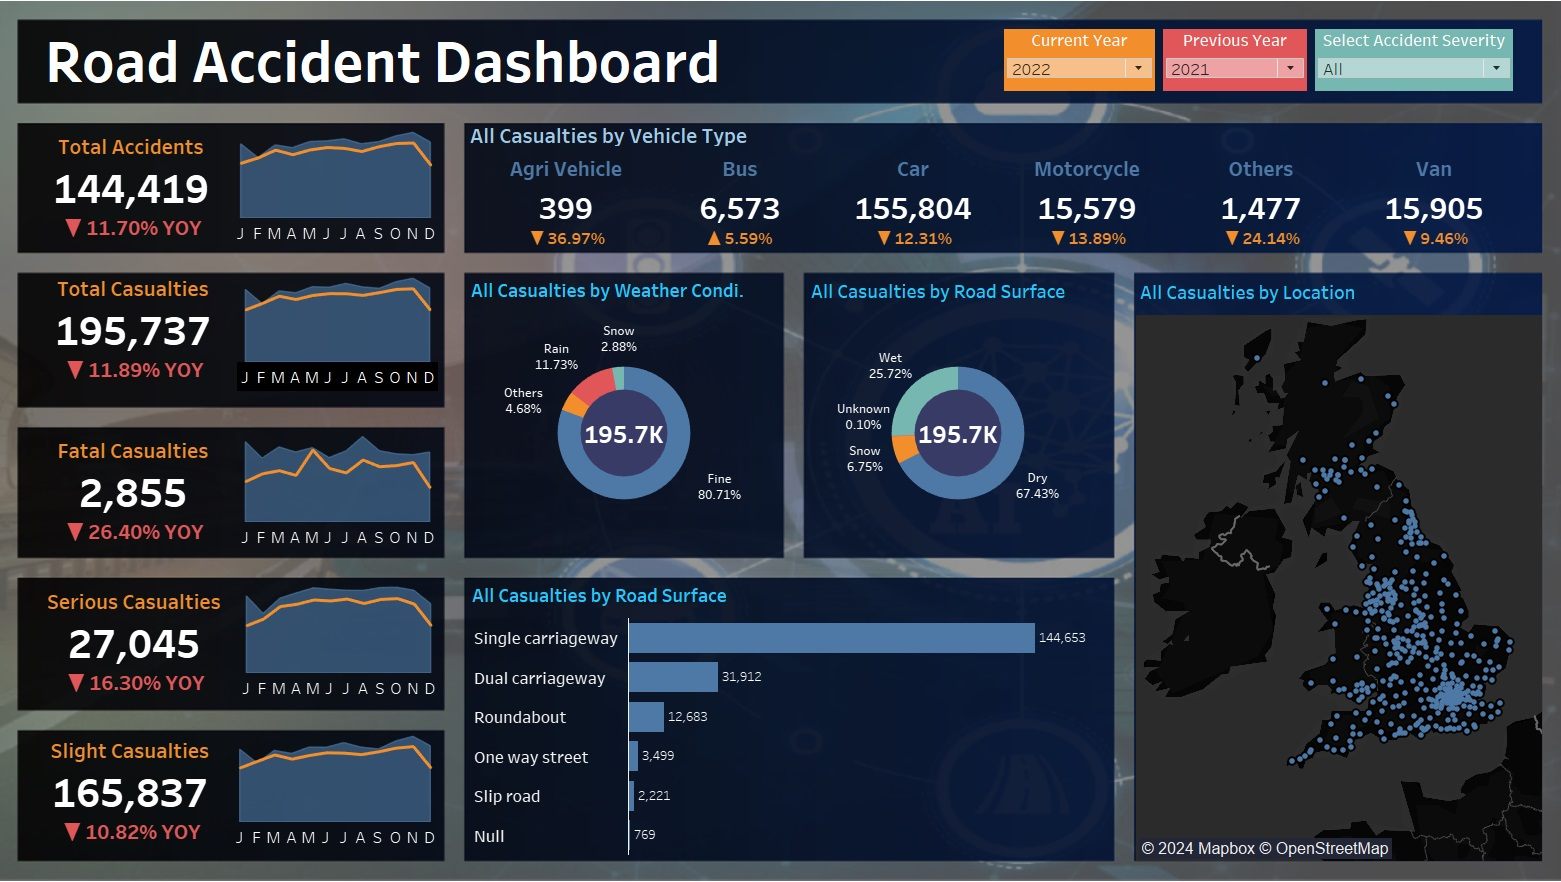

This screenshot's page, from the dashboard's own definition file:
{"tool":"tableau","page":{"name":"Dashboard","canvas":[1600,900],"ordinal":0},"visuals":[{"type":"image","param":"C:/Users/Admin/Desktop/PROJECTS/TABLEAU/Road Accident Analysis/Background.pptx.p","box":[8,8,1584,884]},{"type":"text","box":[60,31,955,79]},{"type":"parameter","param":"[Parameters].[Parameter 1]","box":[1019,36,159,70]},{"type":"parameter","param":"[Parameters].[Current Year (copy)_285978622669066241]","box":[1178,36,152,70]},{"type":"parameter","param":"[Parameters].[Parameter 2]","box":[1330,36,206,70]},{"type":"worksheet","title":"Total Accidents","mark":"Automatic","box":[52,135,195,125]},{"type":"worksheet","title":"Accident Sparkline","mark":"Automatic","rows":["CY Accidents (copy)_285978622670319619","Calculation_285978622669635586"],"cols":["Accident Date"],"box":[247,135,214.8,125]},{"type":"text","box":[485,136,517,21]},{"type":"worksheet","title":"Vehicle Type Imges","mark":"Automatic","box":[494,150,1050,47]},{"type":"worksheet","title":"Vehicle Type KPI","mark":"Automatic","box":[494,197,1050,63]},{"type":"worksheet","title":"Total Casualties","mark":"Automatic","box":[51,281,201,125]},{"type":"worksheet","title":"Total Casualties Sparkline","mark":"Automatic","rows":["CY Casualties (copy)_285978622673678343","Calculation_285978622673195014"],"cols":["Accident Date"],"box":[252,281,208.9,125]},{"type":"worksheet","title":"Weather Condition","mark":"Pie","rows":["Calculation_285978622716882965","Calculation_285978622716907543"],"box":[486,284,314,280]},{"type":"worksheet","title":"Road Surface","mark":"Pie","rows":["Calculation_285978622716882965","Calculation_285978622716907543"],"box":[826,285,302,278]},{"type":"worksheet","title":"Location","mark":"Automatic","rows":["Latitude"],"cols":["Longitude"],"box":[1155,286,406,586]},{"type":"worksheet","title":"Fatal  Casualties ","mark":"Automatic","box":[52,439,200,125]},{"type":"worksheet","title":"Fatal Sparkline","mark":"Automatic","rows":["CY Fatal Casualties (copy)_285978622675296266","Calculation_285978622674714633"],"cols":["Accident Date"],"box":[252,439,209.9,125]},{"type":"worksheet","title":"Road Type","mark":"Automatic","rows":["Road_Type"],"cols":["Calculation_285978622673195014"],"box":[487,589,642,277]},{"type":"worksheet","title":"Serious Casualties","mark":"Automatic","box":[52,590,201,125]},{"type":"worksheet","title":"Serious Sparkline","mark":"Automatic","rows":["PY Fatal Casualties  (copy)_285978622675881997","CY Fatal Casualties (copy)_285978622675750924"],"cols":["Accident Date"],"box":[253,590,208.9,125]},{"type":"worksheet","title":"Slight Casualties","mark":"Automatic","box":[52,739,194,125]},{"type":"worksheet","title":"Slight Sparkline","mark":"Automatic","rows":["PY Serious Casualties (copy)_285978622676451344","CY Serious Casualties (copy)_285978622676348943"],"cols":["Accident Date"],"box":[246,739,216,125]}]}

Visuals, with their boxes in screenshot pixels (x1, y1, x2, y2), scaled from the page's 1600x900 canvas onto the 1561x882 screenshot:
image: l=8, t=8, r=1553, b=874
text: l=59, t=30, r=990, b=108
parameter: l=994, t=35, r=1149, b=104
parameter: l=1149, t=35, r=1298, b=104
parameter: l=1298, t=35, r=1499, b=104
"Total Accidents" worksheet: l=51, t=132, r=241, b=255
"Accident Sparkline" worksheet: l=241, t=132, r=451, b=255
text: l=473, t=133, r=978, b=154
"Vehicle Type Imges" worksheet: l=482, t=147, r=1506, b=193
"Vehicle Type KPI" worksheet: l=482, t=193, r=1506, b=255
"Total Casualties" worksheet: l=50, t=275, r=246, b=398
"Total Casualties Sparkline" worksheet: l=246, t=275, r=450, b=398
"Weather Condition" worksheet (Pie marks): l=474, t=278, r=780, b=553
"Road Surface" worksheet (Pie marks): l=806, t=279, r=1101, b=552
"Location" worksheet: l=1127, t=280, r=1523, b=855
"Fatal  Casualties " worksheet: l=51, t=430, r=246, b=553
"Fatal Sparkline" worksheet: l=246, t=430, r=451, b=553
"Road Type" worksheet: l=475, t=577, r=1101, b=849
"Serious Casualties" worksheet: l=51, t=578, r=247, b=701
"Serious Sparkline" worksheet: l=247, t=578, r=451, b=701
"Slight Casualties" worksheet: l=51, t=724, r=240, b=847
"Slight Sparkline" worksheet: l=240, t=724, r=451, b=847
